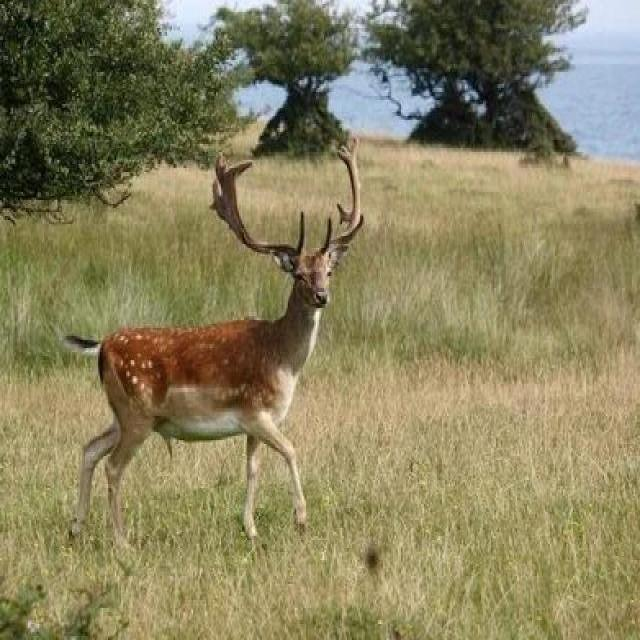deer: (0, 100, 445, 580)
